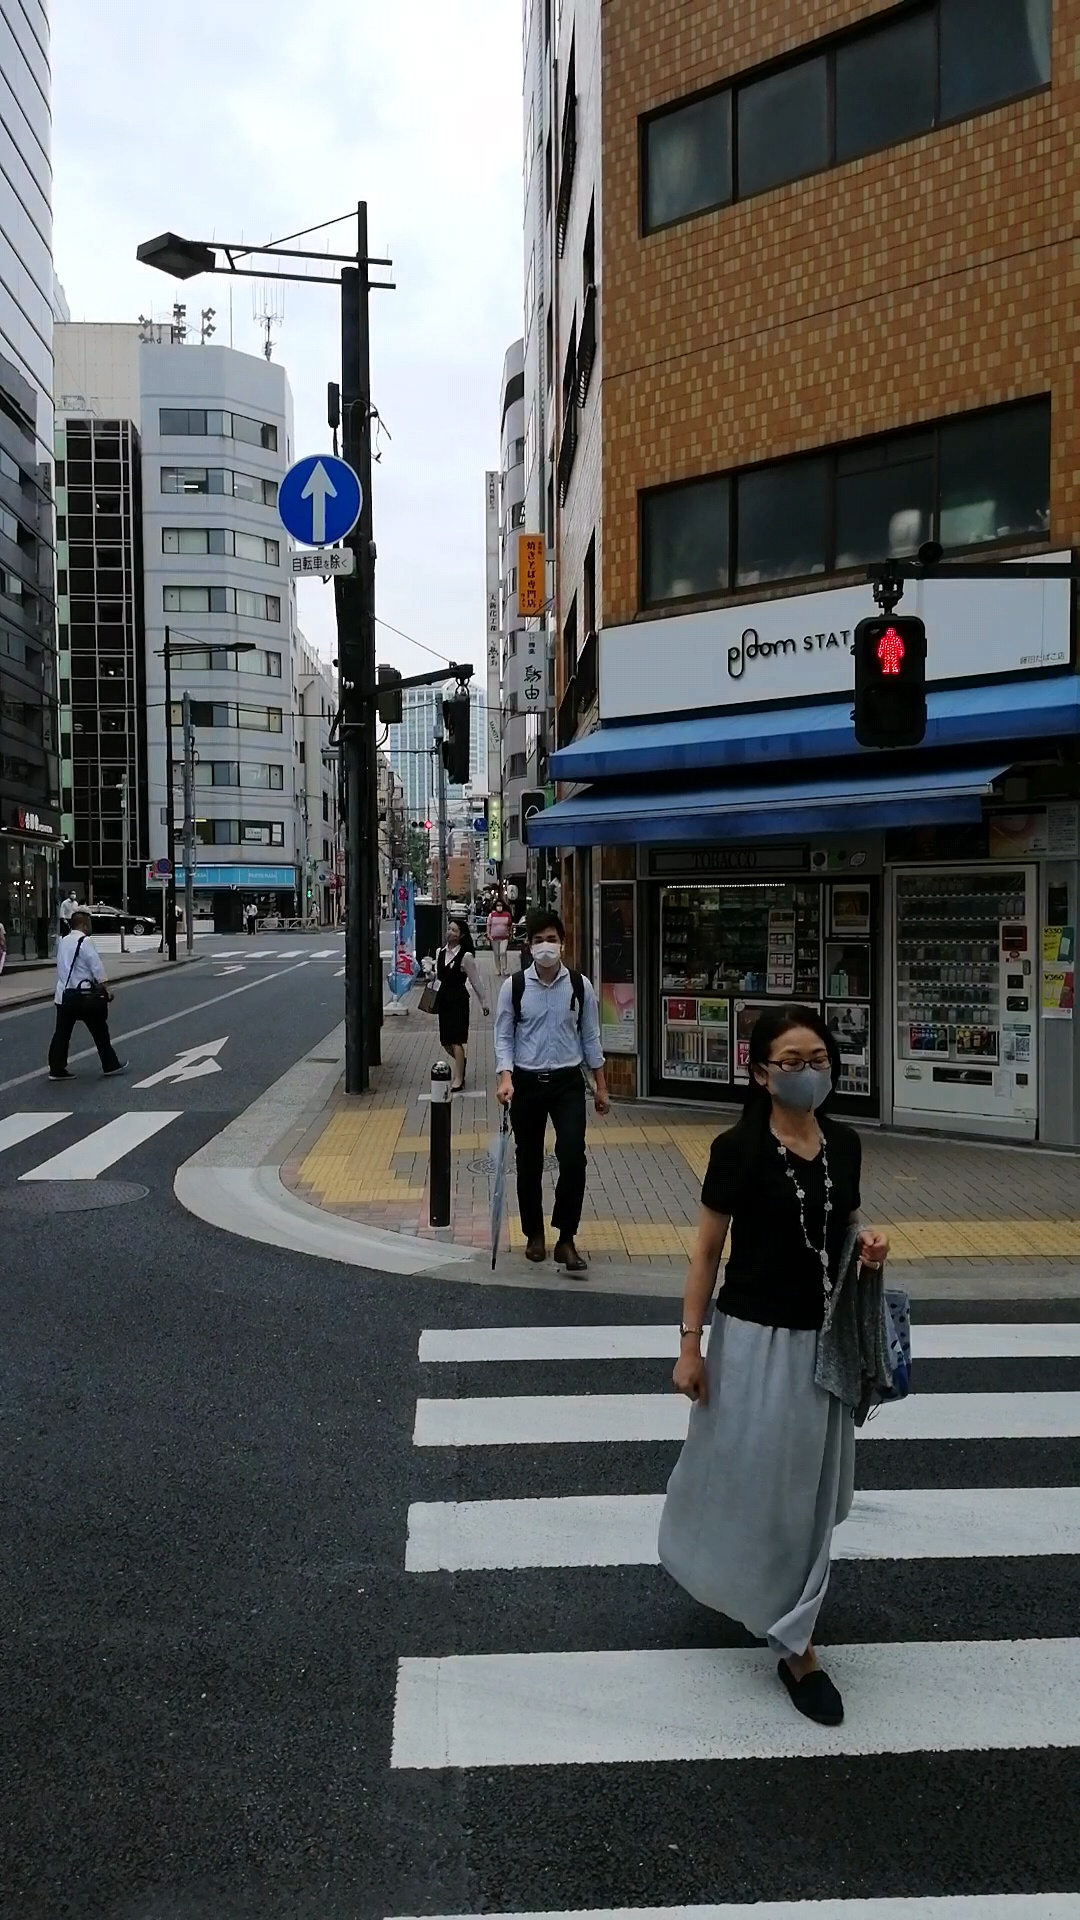red: (855, 616, 928, 741)
